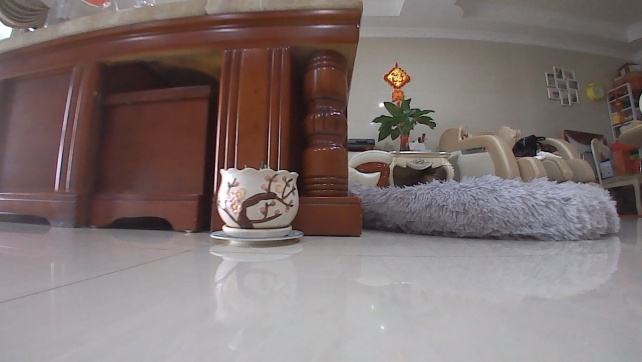blanket: (342, 171, 621, 241)
sofa1: (437, 121, 596, 189), (346, 147, 394, 192)
tea_table1: (0, 0, 368, 239)
